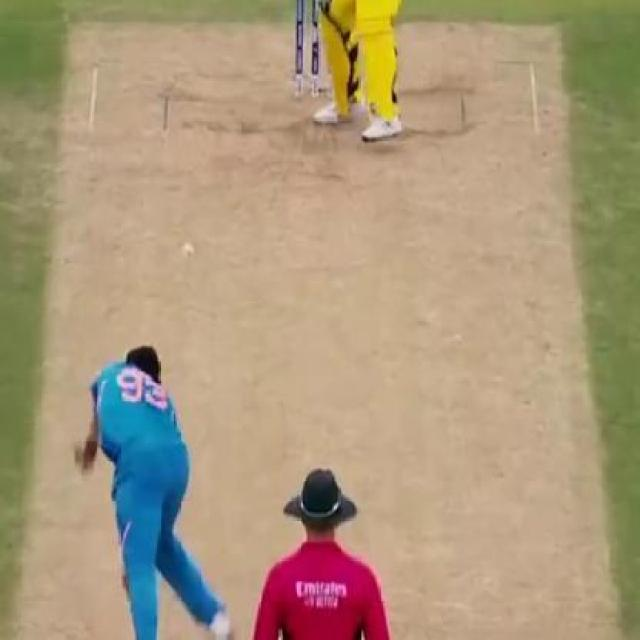Cricket ball: (183, 243, 195, 257)
